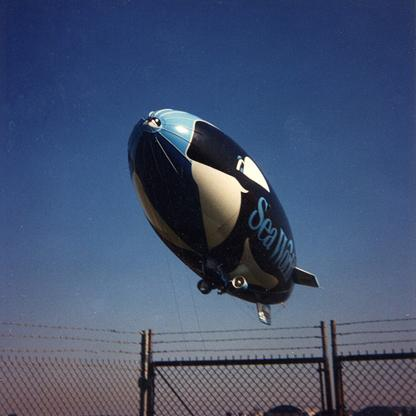Airship: (124, 107, 322, 326)
